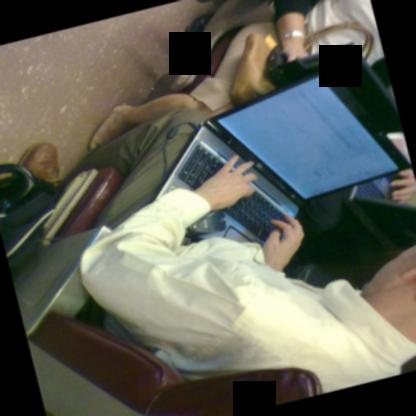backpack: (0, 175, 59, 263)
handbag: (229, 22, 375, 107)
